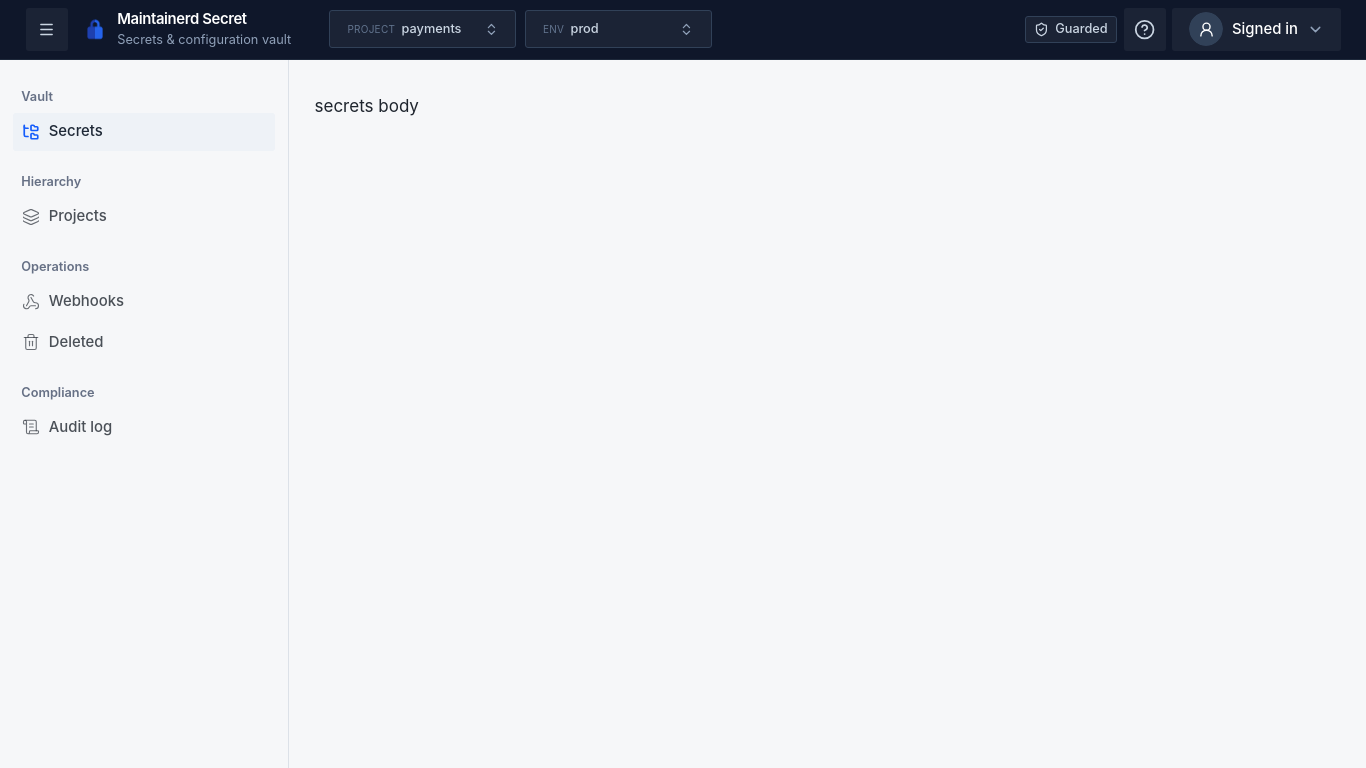
it: PrivateLayout sidebar stability across navigation › keeps the brand bar and rail mounted across that navigation
The image size is (1366, 768).
Click the link "Projects" at (65,216), box x1=22 y1=207 x2=107 y2=226
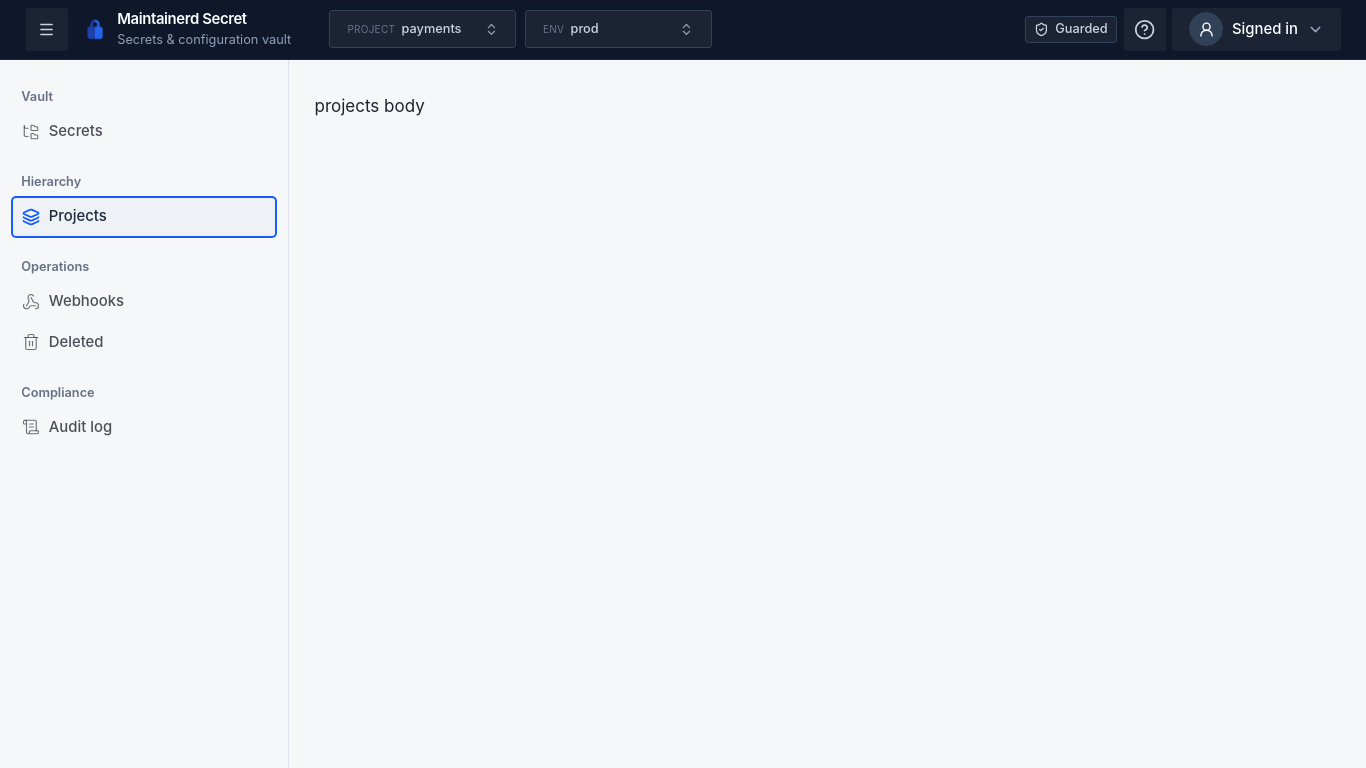
Result: the text "projects body" is shown at x1=314 y1=96 x2=425 y2=116
